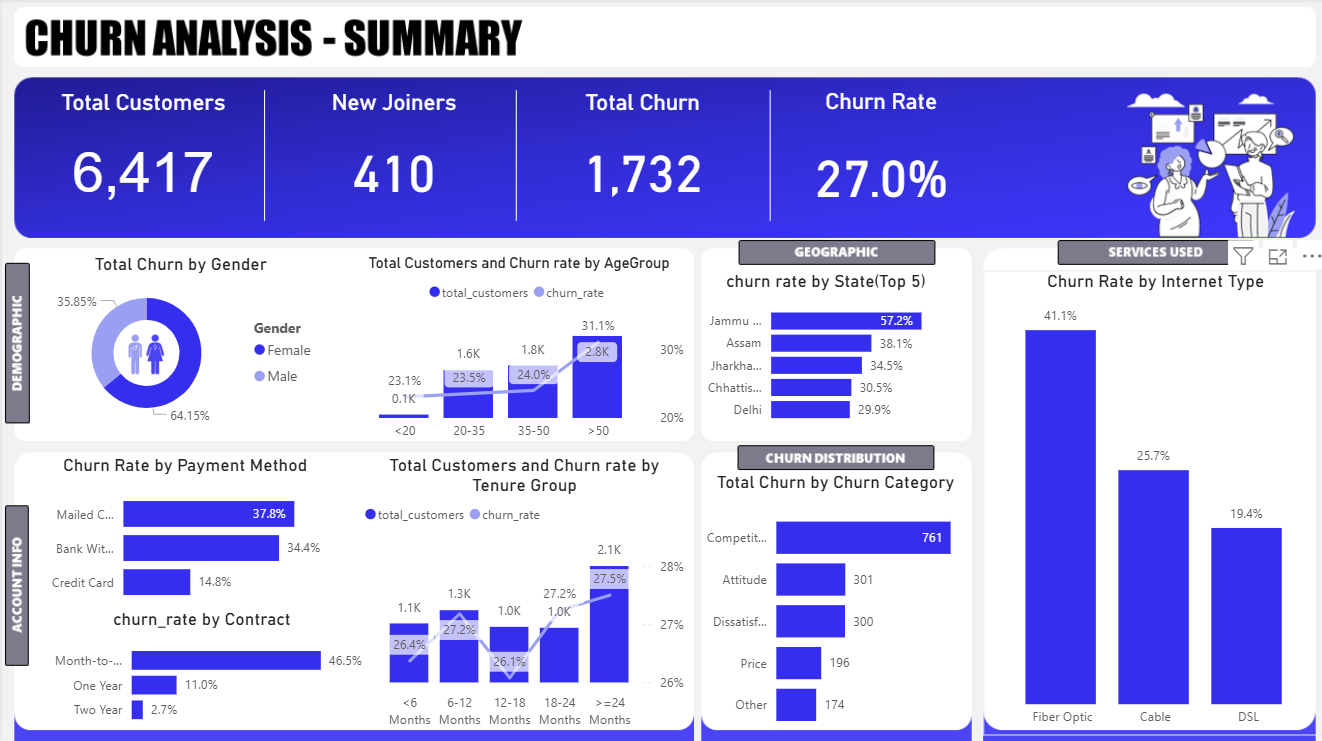

The dashboard page shown, as its layout file describes it:
{"tool":"powerbi","page":{"name":"Page 1","canvas":[1280,720],"ordinal":0},"visuals":[{"type":"card","title":"Total Customers","fields":{"Values":["Customer_Data.total_customers"]},"box":[48.9,88.2,174,127.5],"z":0},{"type":"card","title":"New Joiners","fields":{"Values":["Customer_Data.New_Joiners"]},"box":[292,88.2,172.8,127.5],"z":1000},{"type":"card","title":"Total Churn","fields":{"Values":["Customer_Data.Total_Churn"]},"box":[528.4,88.1,179.8,127.9],"z":2000},{"type":"card","title":"Churn Rate","fields":{"Values":["Customer_Data.churn_rate"]},"box":[761.3,86.9,174.9,139.9],"z":3000},{"type":"donutChart","title":"Total Churn by Gender","fields":{"Category":["Customer_Data.Gender"],"Y":["Customer_Data.Total_Churn"]},"box":[31,245.6,282.5,174],"z":4000},{"type":"lineStackedColumnComboChart","title":"Total Customers and Churn rate by AgeGroup","fields":{"Category":["MAPPING_TABLE.Age_Group"],"Y2":["Customer_Data.churn_rate"],"Y":["Customer_Data.total_customers"]},"box":[334.2,247.3,329.4,188.2],"z":5000},{"type":"clusteredBarChart","title":"Churn Rate by Payment Method","fields":{"Category":["Customer_Data.Payment_Method"],"Y":["Customer_Data.churn_rate"]},"box":[31.4,440.4,290.8,155.6],"z":6000},{"type":"clusteredBarChart","fields":{"Category":["Customer_Data.Contract"],"Y":["Customer_Data.churn_rate"]},"box":[31.4,588.7,323.3,123.1],"z":7000},{"type":"lineStackedColumnComboChart","title":"Total Customers and Churn rate by Tenure Group","fields":{"Category":["mapping_table _tenure.tenure_group"],"Y":["Customer_Data.total_customers"],"Y2":["Customer_Data.churn_rate"]},"box":[345,440.4,318.5,271.4],"z":8000},{"type":"clusteredBarChart","title":"churn rate by State(Top 5)","fields":{"Y":["Customer_Data.churn_rate"],"Category":["Customer_Data.State"]},"box":[663.5,263,263,156.8],"z":9000},{"type":"clusteredBarChart","title":"Total Churn by Churn_Category","fields":{"Category":["Customer_Data.Churn_Category"],"Y":["Customer_Data.Total_Churn"]},"box":[663.5,457.2,282.3,263],"z":10000},{"type":"clusteredColumnChart","title":"Churn Rate by Internet Type","fields":{"Category":["Customer_Data.Internet_Type"],"Y":["Customer_Data.churn_rate"]},"box":[947.1,263,333,448.8],"z":11000}]}

Visuals, with their boxes in screenshot pixels (x1, y1, x2, y2), scaled from the page's 1280x720 canvas onto the 1322x741 screenshot:
"Total Customers" card: {"left": 51, "top": 91, "right": 230, "bottom": 222}
"New Joiners" card: {"left": 302, "top": 91, "right": 480, "bottom": 222}
"Total Churn" card: {"left": 546, "top": 91, "right": 731, "bottom": 222}
"Churn Rate" card: {"left": 786, "top": 89, "right": 967, "bottom": 233}
"Total Churn by Gender" donutChart: {"left": 32, "top": 253, "right": 324, "bottom": 432}
"Total Customers and Churn rate by AgeGroup" lineStackedColumnComboChart: {"left": 345, "top": 255, "right": 685, "bottom": 448}
"Churn Rate by Payment Method" clusteredBarChart: {"left": 32, "top": 453, "right": 333, "bottom": 613}
clusteredBarChart - Customer_Data.Contract x Customer_Data.churn_rate: {"left": 32, "top": 606, "right": 366, "bottom": 733}
"Total Customers and Churn rate by Tenure Group" lineStackedColumnComboChart: {"left": 356, "top": 453, "right": 685, "bottom": 733}
"churn rate by State(Top 5)" clusteredBarChart: {"left": 685, "top": 271, "right": 957, "bottom": 432}
"Total Churn by Churn_Category" clusteredBarChart: {"left": 685, "top": 471, "right": 977, "bottom": 740}
"Churn Rate by Internet Type" clusteredColumnChart: {"left": 978, "top": 271, "right": 1321, "bottom": 733}
